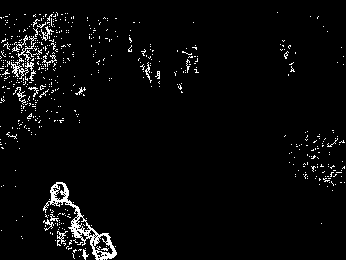person: (42, 180, 118, 260)
